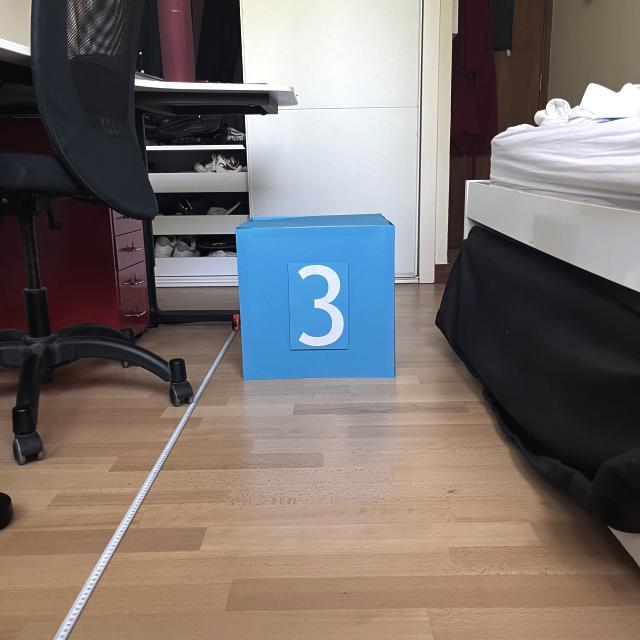box: (230, 209, 400, 382)
